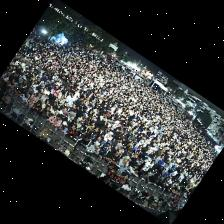person: (71, 135, 91, 154), (137, 160, 155, 176), (137, 150, 151, 165), (142, 168, 156, 182), (117, 157, 129, 173), (105, 150, 119, 163), (119, 148, 133, 161), (124, 133, 137, 146), (110, 144, 122, 157), (127, 161, 138, 175), (49, 115, 61, 127), (101, 132, 113, 144), (87, 142, 99, 154), (31, 101, 42, 114), (155, 159, 168, 170), (78, 122, 88, 136), (66, 92, 75, 107), (156, 177, 169, 187), (67, 125, 77, 138), (111, 127, 120, 141), (116, 130, 127, 141), (154, 155, 164, 167), (149, 173, 161, 183), (14, 84, 24, 96), (162, 166, 172, 178), (40, 91, 49, 104), (89, 127, 98, 139), (42, 105, 50, 118), (50, 98, 59, 109), (31, 91, 39, 103), (99, 145, 106, 158), (22, 91, 29, 104), (112, 138, 123, 146), (67, 119, 76, 128), (92, 135, 101, 144), (59, 122, 67, 132), (25, 98, 33, 108), (88, 120, 95, 131), (57, 94, 64, 105), (178, 172, 186, 181), (100, 113, 108, 122), (77, 118, 83, 130), (111, 121, 119, 130), (9, 83, 17, 92), (50, 106, 58, 115), (67, 112, 74, 122), (106, 141, 111, 155), (58, 107, 67, 114), (42, 100, 49, 109), (100, 176, 109, 183), (61, 112, 67, 122), (171, 187, 179, 194), (178, 189, 185, 197), (38, 90, 43, 99), (172, 182, 179, 187)
